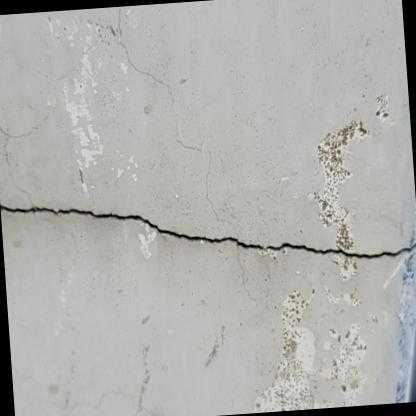crack: (0, 203, 416, 261)
